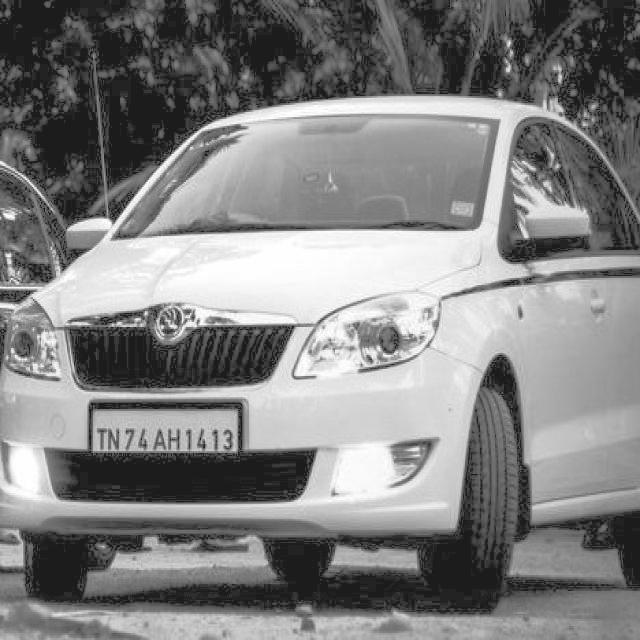Car: (1, 91, 639, 609)
